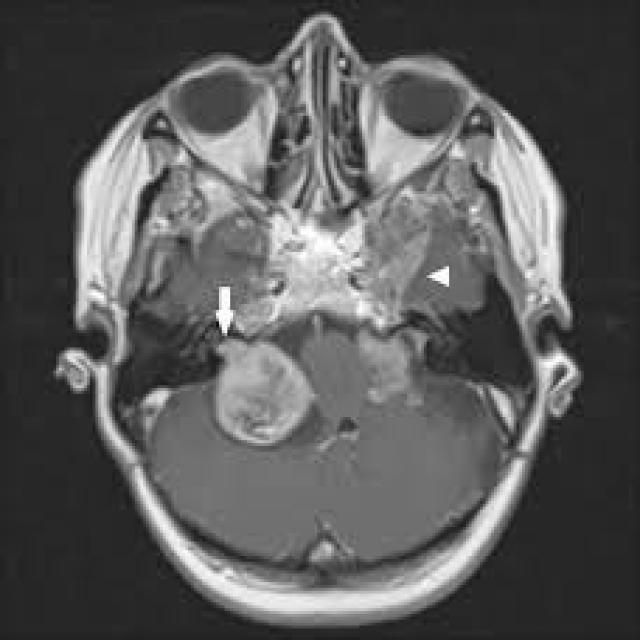meningioma: (216, 336, 314, 449)
